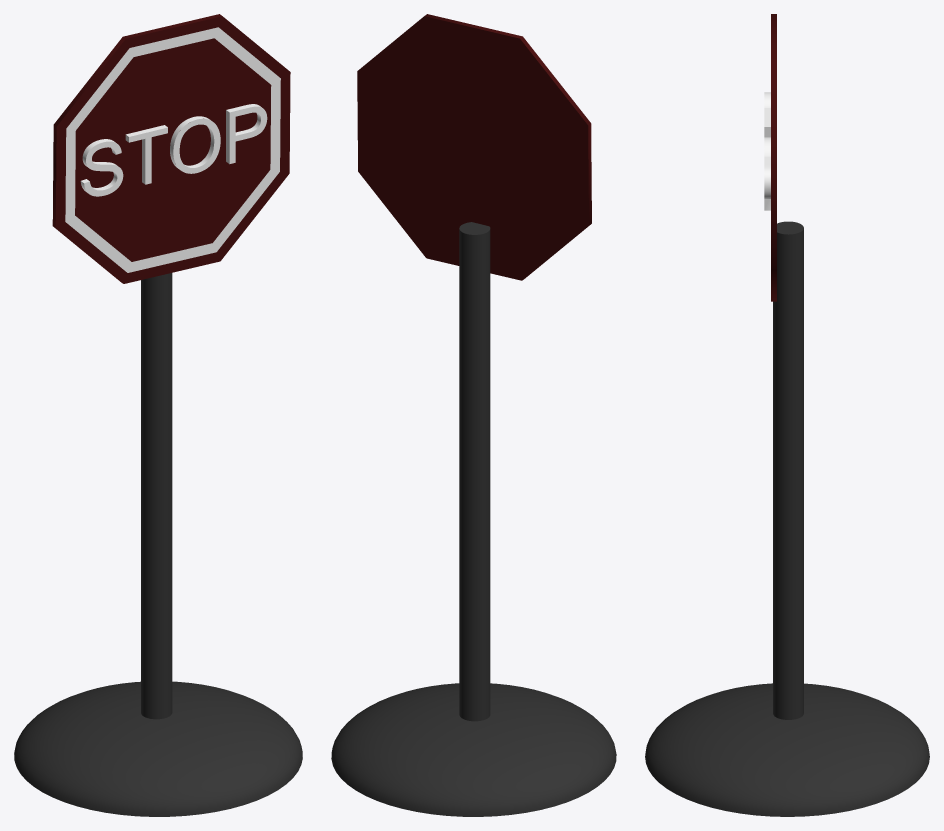
File: stop.obj
3 renders of one model, left to right at view 1: azimuth 30°, elevation 25°; view 2: azimuth 150°, elevation 25°; view 3: azimuth 270°, elevation 25°, orthographic.
Visible parts, largest first — view 1: Cylinder001; view 2: Cylinder001; view 3: Cylinder001.
Part boxes in pixels (x1,y1,x2,y2): Cylinder001: (14,14,302,816); Cylinder001: (331,14,616,816); Cylinder001: (645,14,929,816).
Size of the model in its own units: 3.16 by 9.19 by 3.16.
